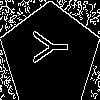Y: (25, 30, 68, 64)
